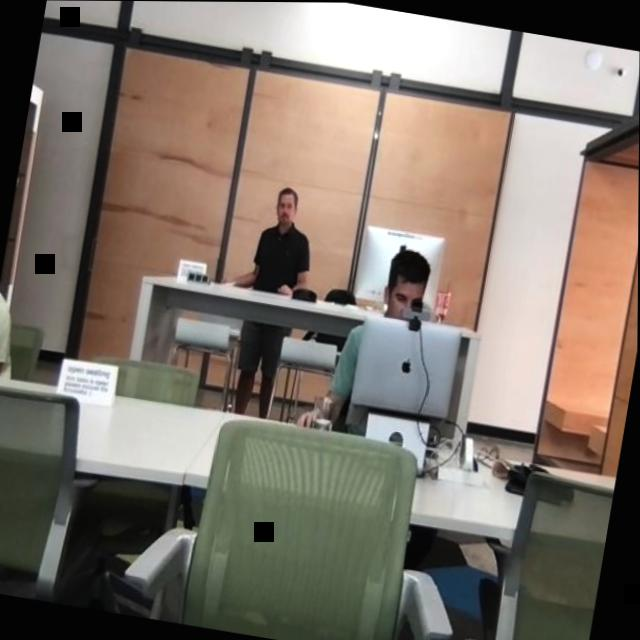NO-Mask: (270, 185, 301, 230)
